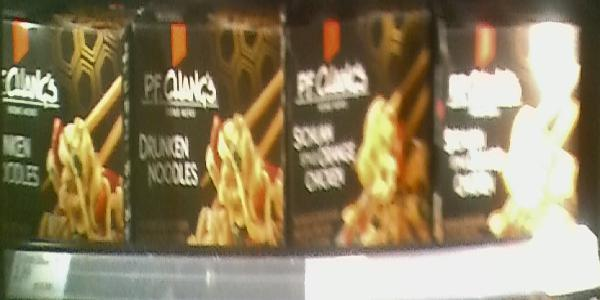pizza1: (130, 21, 287, 250), (289, 12, 436, 249), (439, 20, 581, 246), (1, 19, 128, 250)
